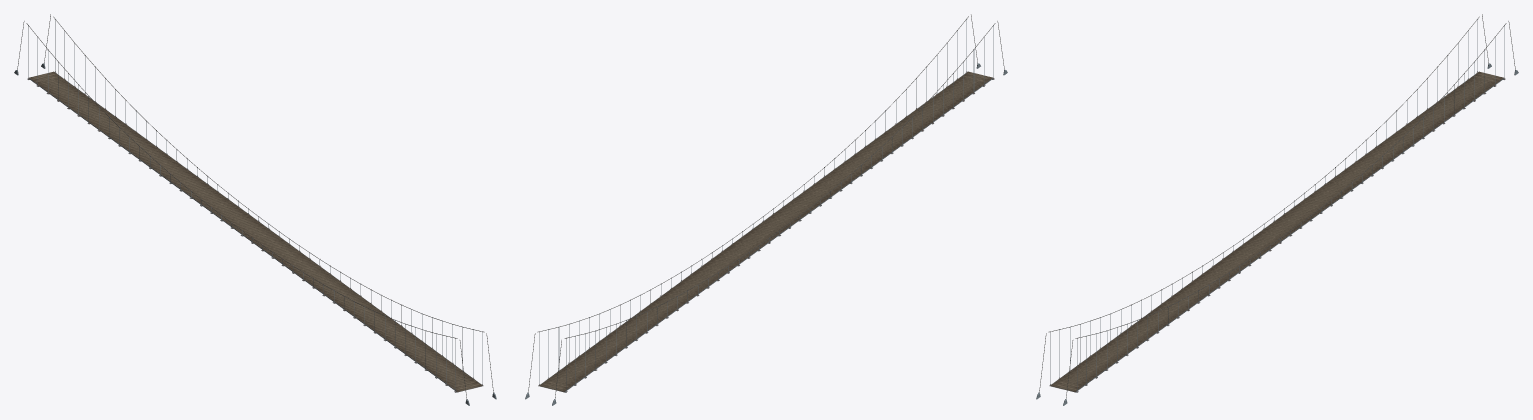
File: objects_un_dlc2_sus_bridge01.gltf
3 views of the same model, side by side, from view 1: azimuth 30°, elevation 25°; view 2: azimuth 150°, elevation 25°; view 3: azimuth 330°, elevation 25° (orthographic).
Parts seen in each view (by area): view 1: um_objects_un_dlc2_sus_bridge01_model_lod0Shape:objects_un_d; view 2: um_objects_un_dlc2_sus_bridge01_model_lod0Shape:objects_un_d; view 3: um_objects_un_dlc2_sus_bridge01_model_lod0Shape:objects_un_d.
Part boxes in pixels (x1,y1,x2,y2): um_objects_un_dlc2_sus_bridge01_model_lod0Shape:objects_un_d: [14, 14, 496, 405]; um_objects_un_dlc2_sus_bridge01_model_lod0Shape:objects_un_d: [525, 14, 1007, 405]; um_objects_un_dlc2_sus_bridge01_model_lod0Shape:objects_un_d: [1036, 14, 1518, 405].
Size of what is drawn, in the model's own units: 4.26 by 8.63 by 120.
1 material, 1 textured.
